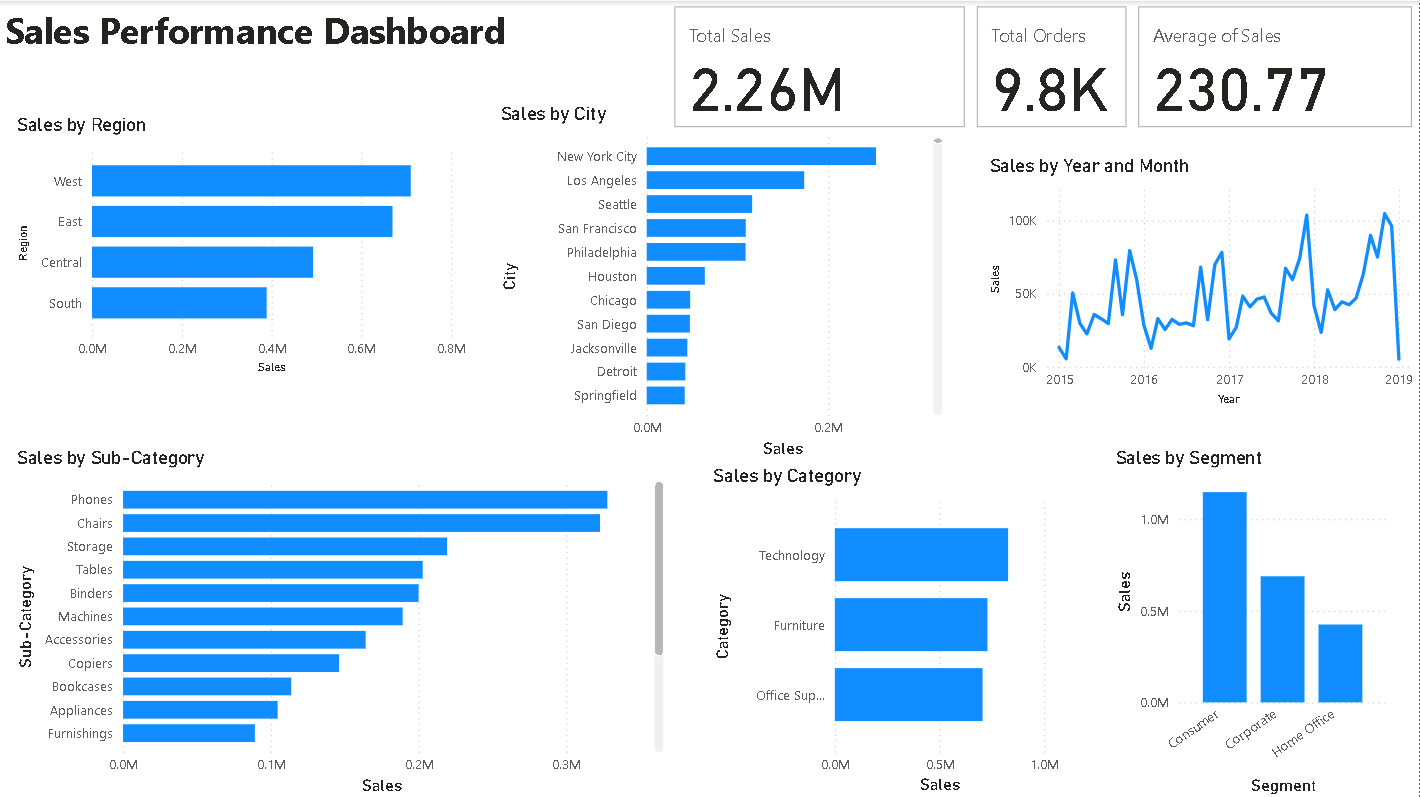

What the dashboard file says about the page in this screenshot:
{"tool":"powerbi","page":{"name":"Page 1","canvas":[1280,720],"ordinal":0},"visuals":[{"type":"barChart","fields":{"Y":["Sum(train.Sales)"],"Category":["train.Sub-Category"]},"box":[11,401.1,593.1,319.2],"z":0},{"type":"barChart","fields":{"Category":["train.City"],"Y":["Sum(train.Sales)"]},"box":[447.6,91.7,408.4,325.3],"z":1000},{"type":"lineChart","fields":{"Y":["Sum(train.Sales)"],"Category":["train.Ship Date.Variation.Date Hierarchy.Year","train.Ship Date.Variation.Date Hierarchy.Month"]},"box":[887.8,138.2,391.3,231.1],"z":2000},{"type":"barChart","fields":{"Category":["train.Category"],"Y":["Sum(train.Sales)"]},"box":[639.5,418.2,321.6,302],"z":3000},{"type":"columnChart","fields":{"Category":["train.Segment"],"Y":["Sum(train.Sales)"]},"box":[1001.5,401.1,255.6,319.2],"z":4000},{"type":"barChart","fields":{"Category":["train.Region"],"Y":["Sum(train.Sales)"]},"box":[11,101.5,414.5,239.7],"z":5000},{"type":"cardVisual","fields":{"Data":["Sum(train.Sales)"]},"box":[604.1,0,272.7,119.8],"z":6000,"group":"g1"},{"type":"textbox","box":[0,0,550.3,91.7],"z":7000},{"type":"cardVisual","fields":{"Data":["CountNonNull(train.Order ID)"]},"box":[876.7,0,146,119.8],"z":8000,"group":"g1"},{"type":"cardVisual","fields":{"Data":["Avg(train.Sales)"]},"box":[1022.7,0,257.3,119.8],"z":9000,"group":"g1"},{"type":"group","id":"g1","title":"Group 1","box":[604.1,0,675.9,119.8],"z":9001}]}

Visuals, with their boxes in screenshot pixels (x1, y1, x2, y2), scaled from the page's 1280x720 canvas onto the 1420x797 screenshot:
barChart - Sum(train.Sales) x train.Sub-Category: <region>12, 444, 670, 796</region>
barChart - train.City x Sum(train.Sales): <region>497, 102, 950, 462</region>
lineChart - Sum(train.Sales) x train.Ship Date.Variation.Date Hierarchy.Year: <region>985, 153, 1419, 409</region>
barChart - train.Category x Sum(train.Sales): <region>709, 463, 1066, 796</region>
columnChart - train.Segment x Sum(train.Sales): <region>1111, 444, 1395, 796</region>
barChart - train.Region x Sum(train.Sales): <region>12, 112, 472, 378</region>
cardVisual - Sum(train.Sales): <region>670, 0, 973, 133</region>
textbox: <region>0, 0, 610, 102</region>
cardVisual - CountNonNull(train.Order ID): <region>973, 0, 1135, 133</region>
cardVisual - Avg(train.Sales): <region>1135, 0, 1419, 133</region>
"Group 1" group: <region>670, 0, 1419, 133</region>
